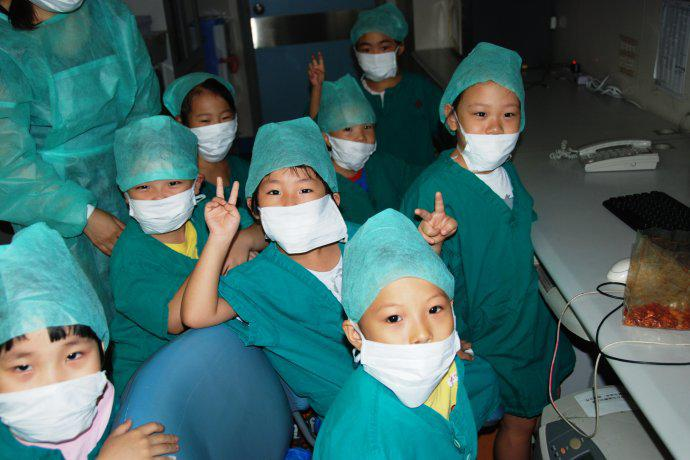OK: (4, 336, 111, 443), (193, 103, 246, 156), (361, 40, 401, 80)
WRONG: (362, 287, 463, 388), (258, 175, 329, 246), (457, 98, 523, 164), (126, 175, 193, 230), (326, 115, 379, 168)
